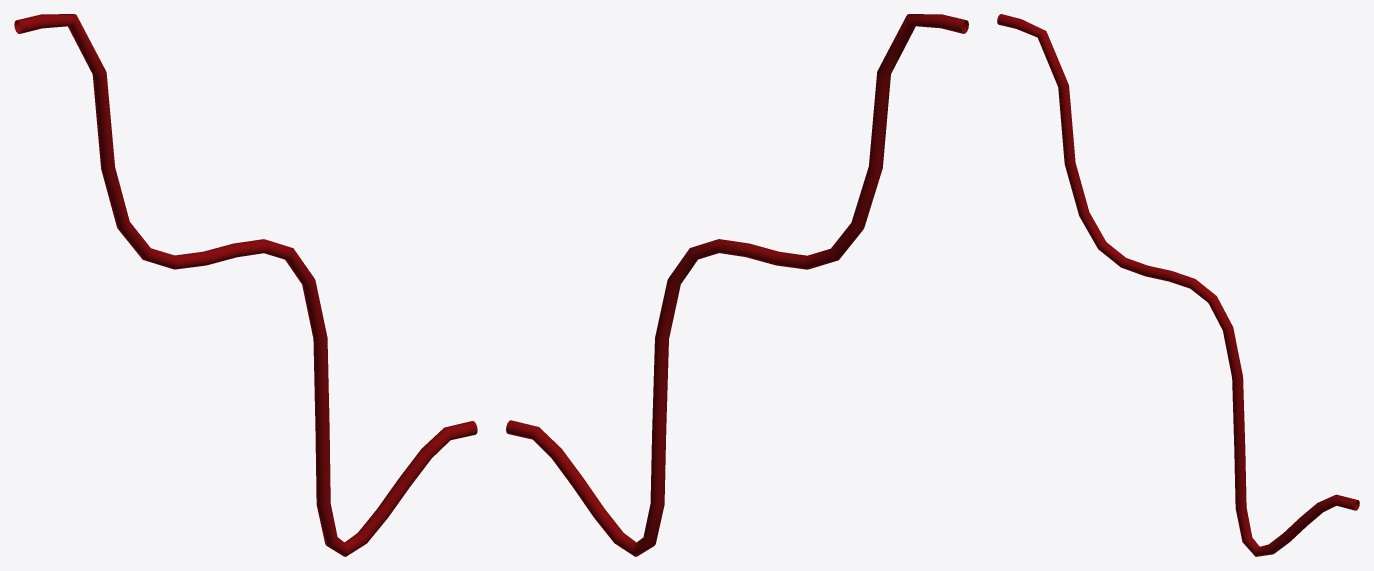
Rendered from cable01.fbx.
3 views of the same model, side by side, from view 1: azimuth 30°, elevation 25°; view 2: azimuth 150°, elevation 25°; view 3: azimuth 330°, elevation 25° (orthographic). The views are drawn at different scales.
Visible parts, largest first — view 1: BezierCurve.001; view 2: BezierCurve.001; view 3: BezierCurve.001.
Part boxes in pixels (bbox=[...]): BezierCurve.001: bbox=[14, 14, 477, 556]; BezierCurve.001: bbox=[506, 14, 968, 556]; BezierCurve.001: bbox=[997, 14, 1359, 556].
Bounding box in the file's own units: 2727 × 3516 × 94.51.
